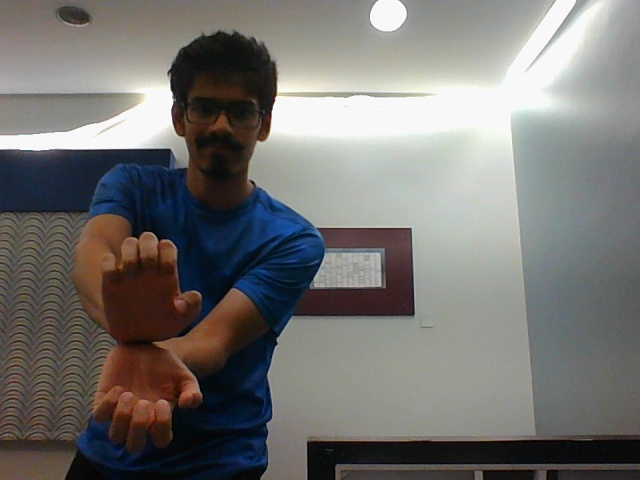blast: (81, 224, 204, 449)
